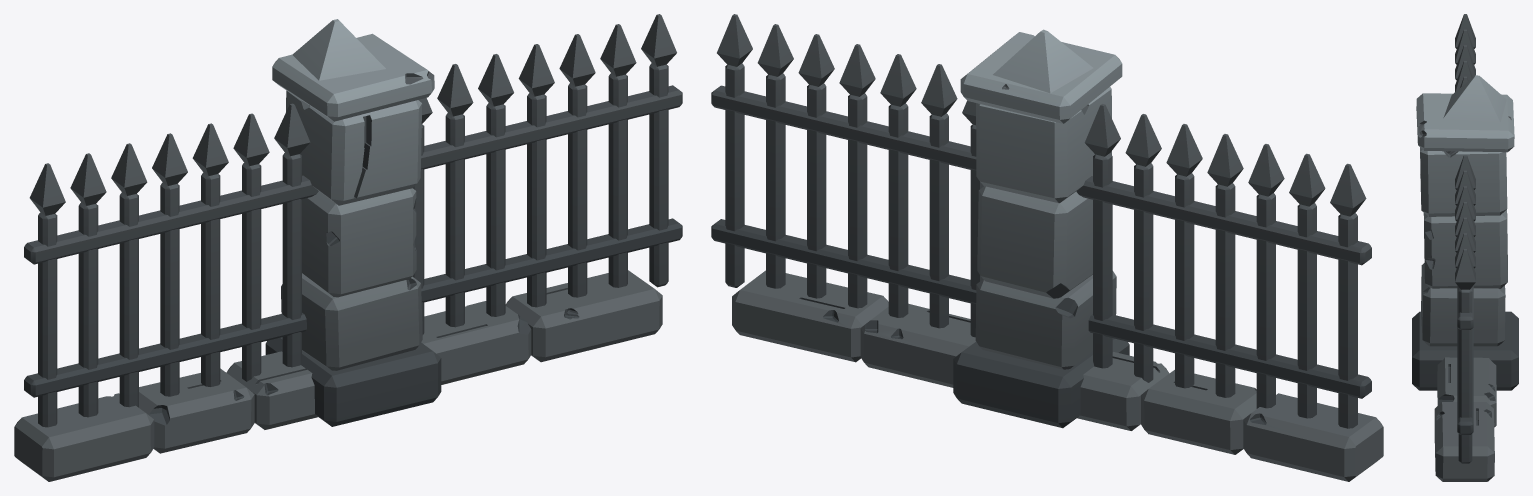
Rendered from graveyard_fence.glb.
3 renders of one model, left to right at view 1: azimuth 30°, elevation 25°; view 2: azimuth 150°, elevation 25°; view 3: azimuth 270°, elevation 25°, orthographic. The views are drawn at different scales.
Visible parts, largest first — view 1: graveyard_fence; view 2: graveyard_fence; view 3: graveyard_fence.
Boxes of the visible parts, x1,y1,x2,y2 form: graveyard_fence: [14, 14, 682, 481]; graveyard_fence: [711, 14, 1383, 481]; graveyard_fence: [1412, 14, 1518, 481].
Bounding box in the file's own units: 4 × 2.17 × 0.72.
1 material, 1 textured.
